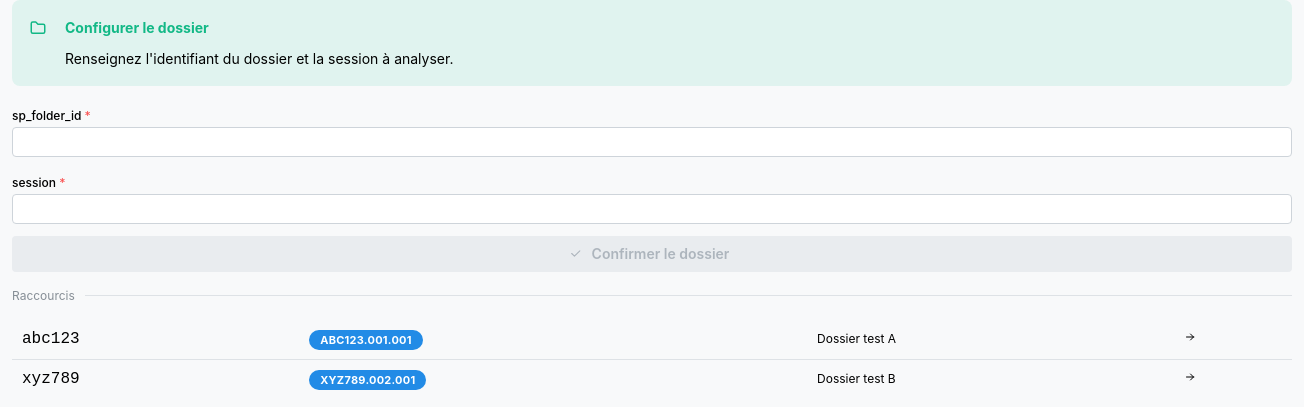
Test: FolderPicker — mandatory fields › confirm button enables when both fields have values
Step 1. Type "myFolder" into the field with test id "input-folder-id" → [652, 142], box [12, 127, 1292, 157]
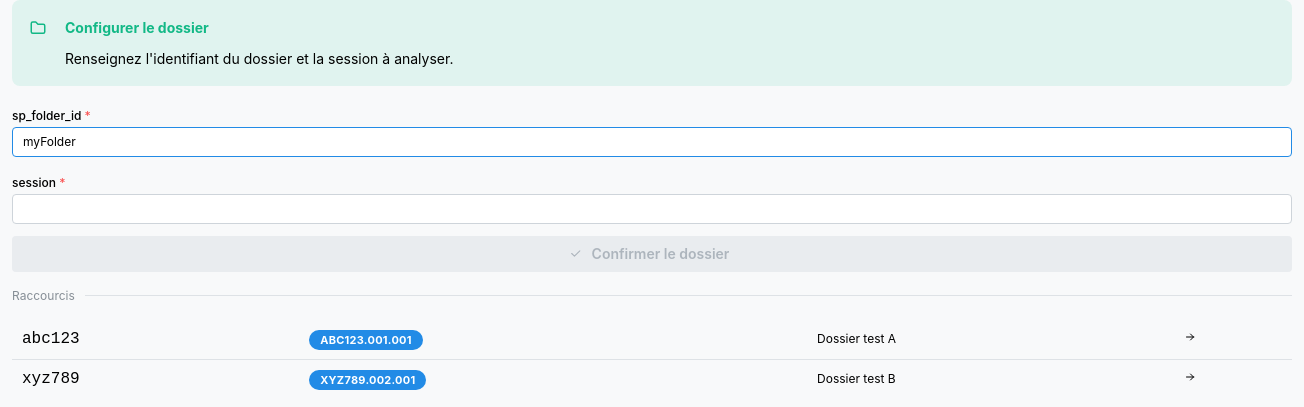
Step 2. Type "mySession" into the field with test id "input-session-id" → [652, 209], box [12, 194, 1292, 224]
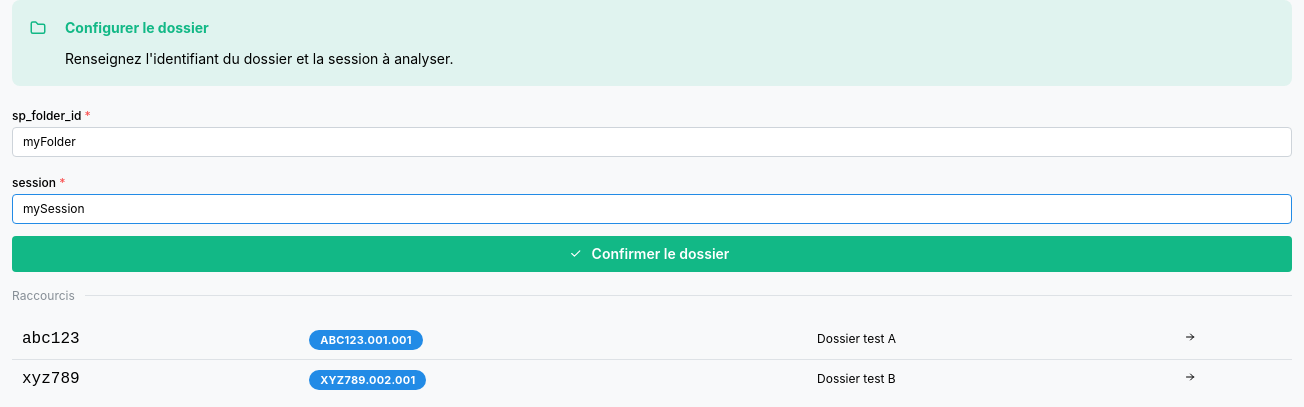
Expected: the button with test id "btn-confirm" is enabled, [12, 236, 1292, 272]
